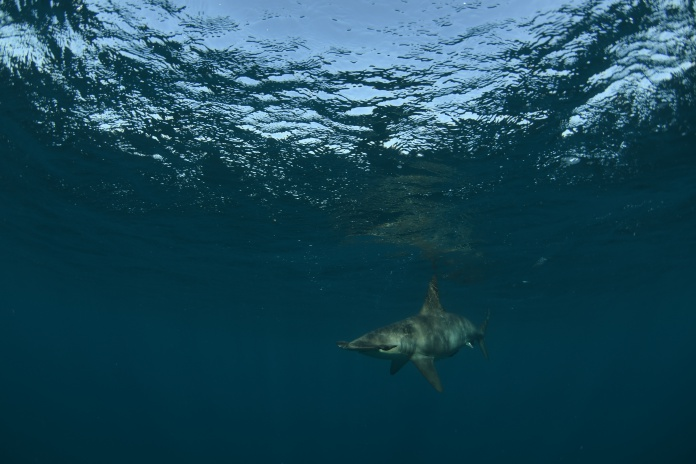Hammer: (325, 281, 508, 413)
